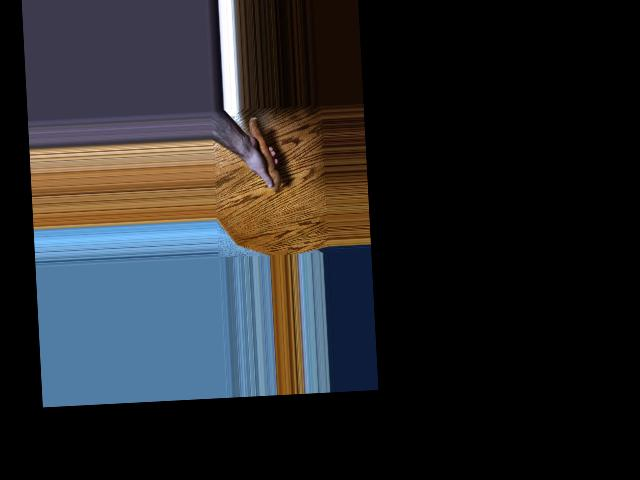sweet_potato: (245, 115, 284, 191)
